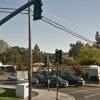Traffic light: (25, 1, 48, 22)
